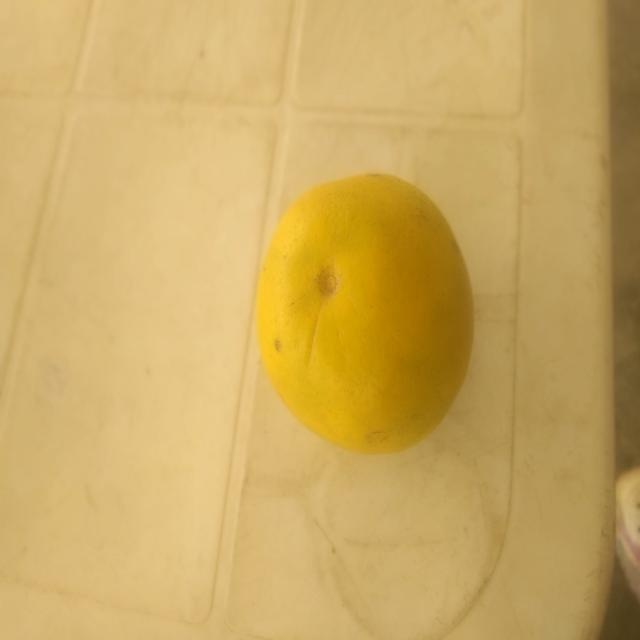agrume: (249, 165, 476, 476)
